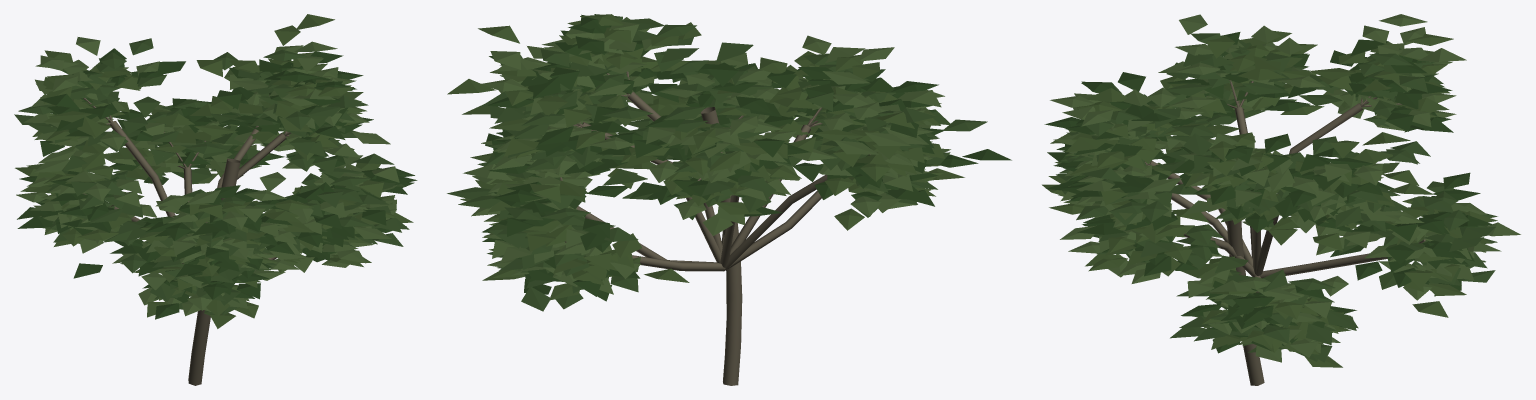
The model's file is prop_tropical_tree_lod1.glb.
The picture shows the model from 3 angles, left to right: view 1: azimuth 30°, elevation 25°; view 2: azimuth 150°, elevation 25°; view 3: azimuth 270°, elevation 25°; orthographic projection. The views are drawn at different scales.
Parts seen in each view (by area): view 1: base__art06_canopy_prop_tropical_tree, base__art06_weathered_bark; view 2: base__art06_canopy_prop_tropical_tree, base__art06_weathered_bark; view 3: base__art06_canopy_prop_tropical_tree, base__art06_weathered_bark.
Part boxes in pixels (bbox=[...]): base__art06_canopy_prop_tropical_tree: bbox=[14, 14, 417, 328]; base__art06_weathered_bark: bbox=[83, 95, 291, 385]; base__art06_canopy_prop_tropical_tree: bbox=[447, 14, 1011, 311]; base__art06_weathered_bark: bbox=[560, 71, 870, 385]; base__art06_canopy_prop_tropical_tree: bbox=[1042, 14, 1520, 367]; base__art06_weathered_bark: bbox=[1144, 80, 1425, 385].
Size of the model in its own units: 14.99 by 10.68 by 14.22.
